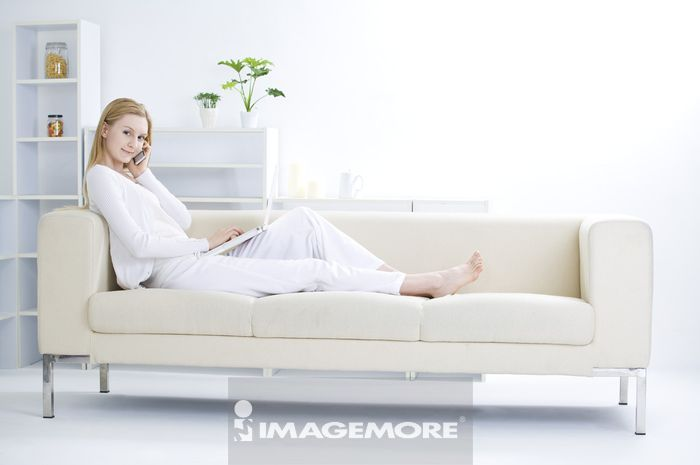talk: (116, 124, 151, 174)
